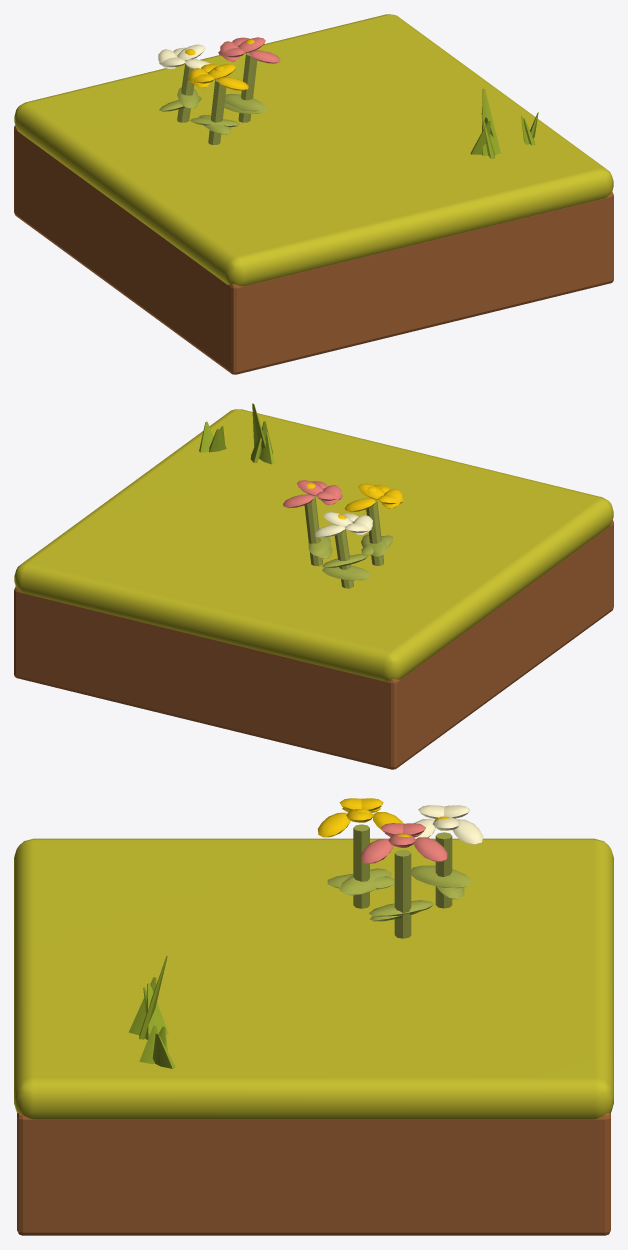
Rendered from tile_grass_flower.glb.
3 views of the same model, one above another, from view 1: azimuth 30°, elevation 25°; view 2: azimuth 150°, elevation 25°; view 3: azimuth 270°, elevation 25° (orthographic). The views are drawn at different scales.
Visible parts, largest first — view 1: gf_cap, gf_body, gf_fl_f2_stem, gf_fl_f0_stem, gf_tf_t0_b0; view 2: gf_cap, gf_body, gf_fl_f0_stem, gf_fl_f2_stem, gf_fl_f1_leaf0, gf_fl_f1_stem; view 3: gf_cap, gf_body, gf_fl_f0_stem, gf_fl_f2_stem, gf_fl_f1_leaf1, gf_fl_f1_stem, gf_fl_f2_leaf0, gf_fl_f0_petal3.
Part boxes in pixels (x1,y1,x2,y2): gf_cap: (14,14,613,286); gf_body: (14,125,613,374); gf_fl_f2_stem: (208,79,226,144); gf_fl_f0_stem: (238,52,257,122); gf_tf_t0_b0: (481,88,500,155); gf_cap: (14,409,613,681); gf_body: (14,520,613,769); gf_fl_f0_stem: (304,495,322,566); gf_fl_f2_stem: (366,498,384,565); gf_fl_f1_leaf0: (322,565,371,580); gf_fl_f1_stem: (334,529,353,588); gf_cap: (14,838,613,1119); gf_body: (17,1113,610,1235); gf_fl_f0_stem: (394,849,411,938); gf_fl_f2_stem: (353,824,369,908); gf_fl_f1_leaf1: (411,865,472,888); gf_fl_f1_stem: (435,832,452,908); gf_fl_f2_leaf0: (339,868,391,895); gf_fl_f0_petal3: (414,837,447,861).
Size of the model in its own units: 2.02 by 0.9612 by 2.02.
